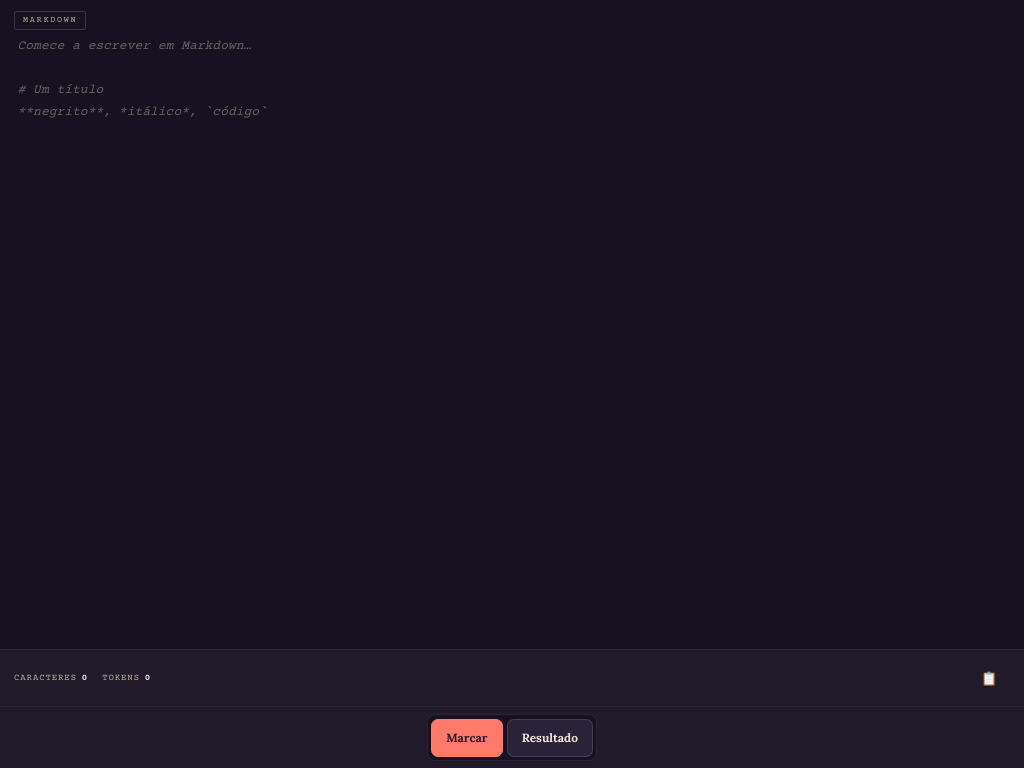
it: EditorFeature › renders sanitized preview HTML derived from what the user types in the editor
Replace the text in the text box with placeholder "Comece a escrever em Markdown" with "# Hello world" at (512, 324), box [0,0,1023,649]
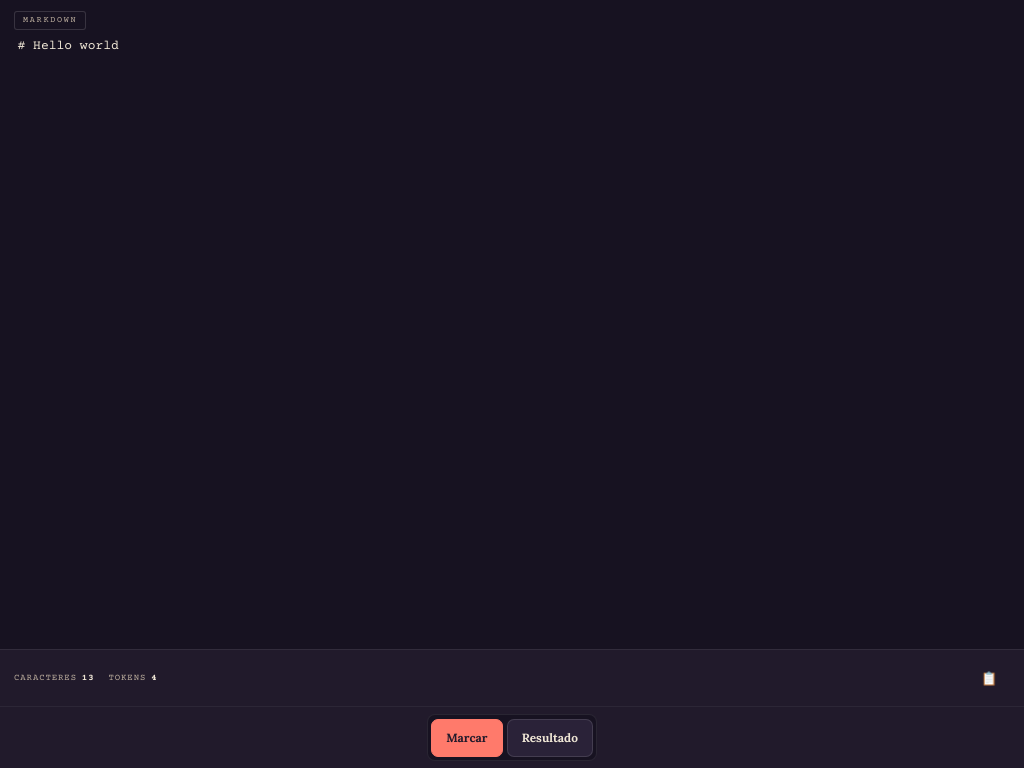
Click the button "Resultado" at (550, 738), box [507,718,593,756]
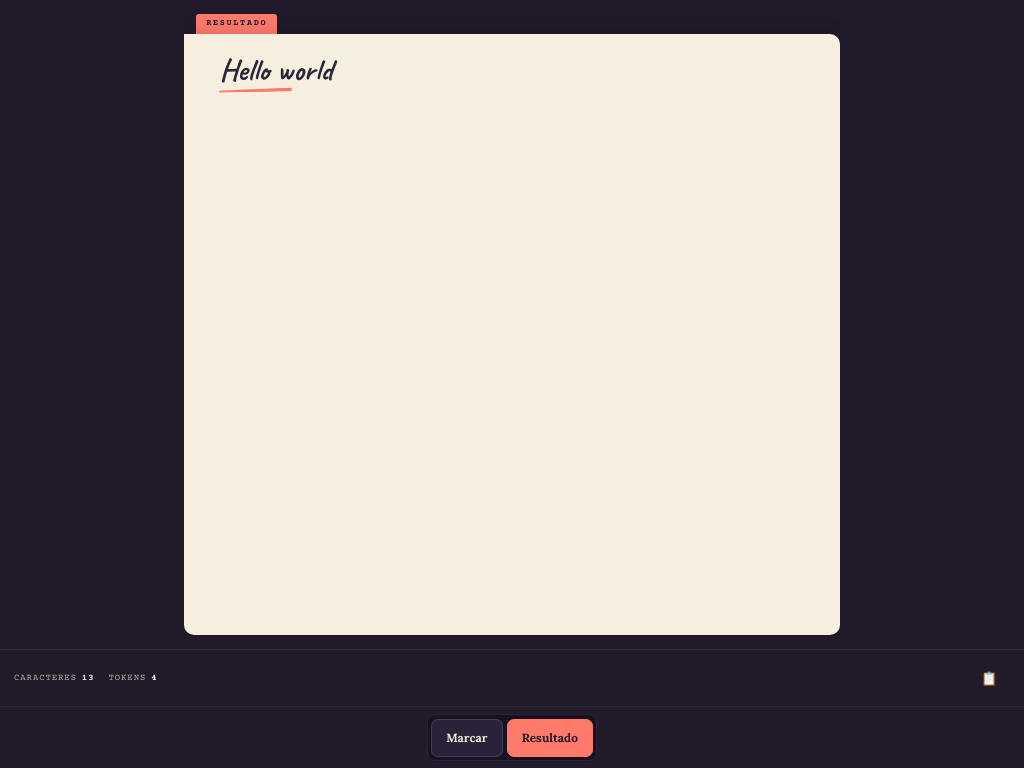
Now the element showing "Hello world" is shown, box [184,34,840,635]
